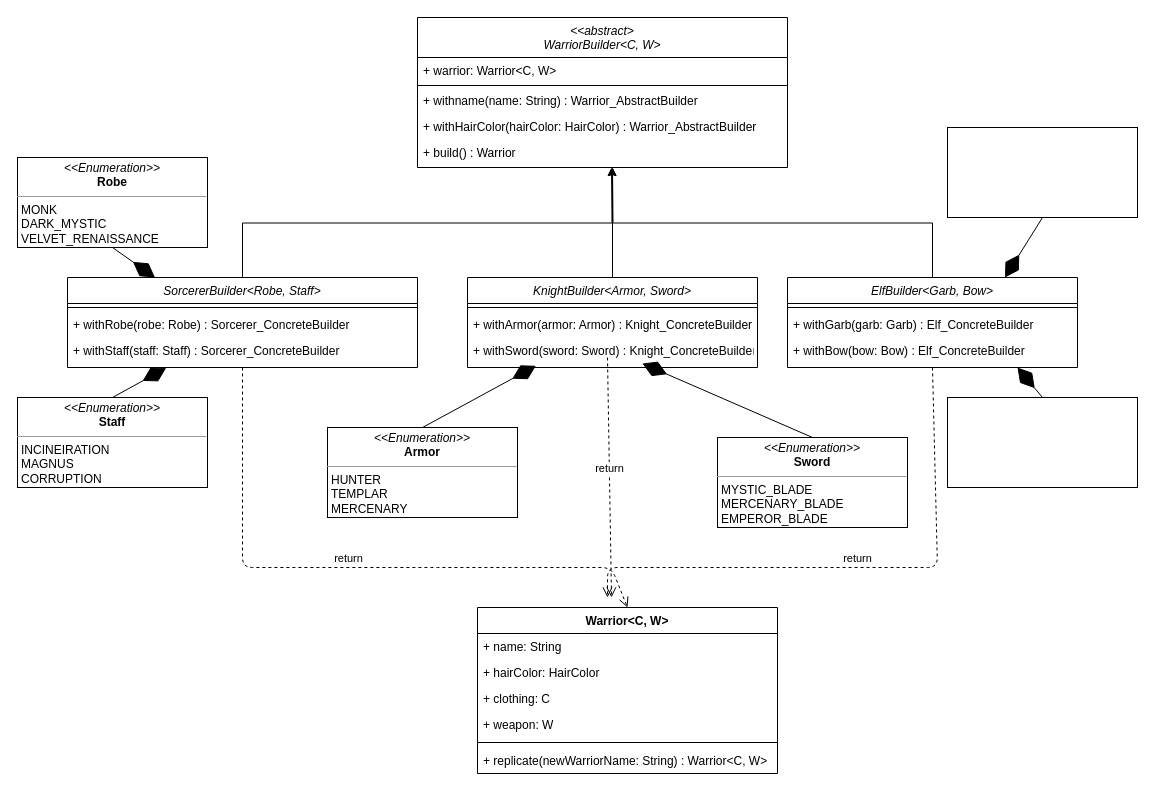
Image size: 1155x794. Some labels were removed from this diagram. Each missing label, with the box of its shape:
<<Enumeration>> Bow AGGRESSIVE WINGED RAIDER: (946, 126, 1138, 218)
<<Enumeration>> Garb EXECUTIONER HUNTER FOREIGN: (946, 396, 1138, 488)
